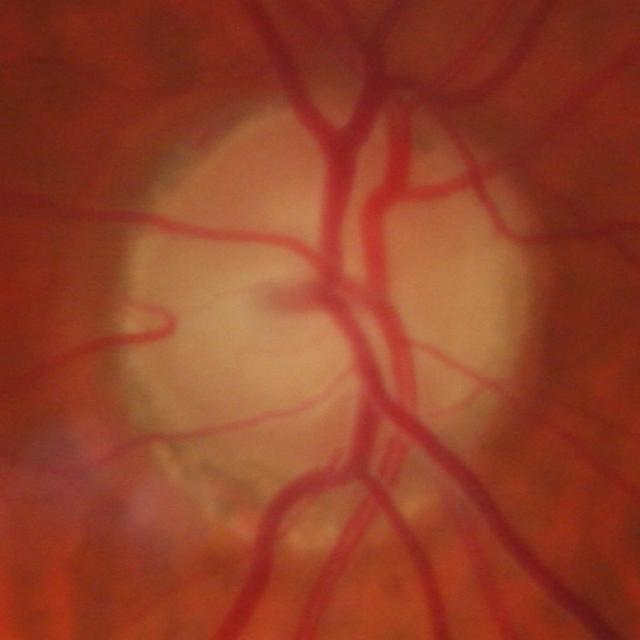OC: (210, 221, 350, 371)
OD: (108, 96, 541, 546)
